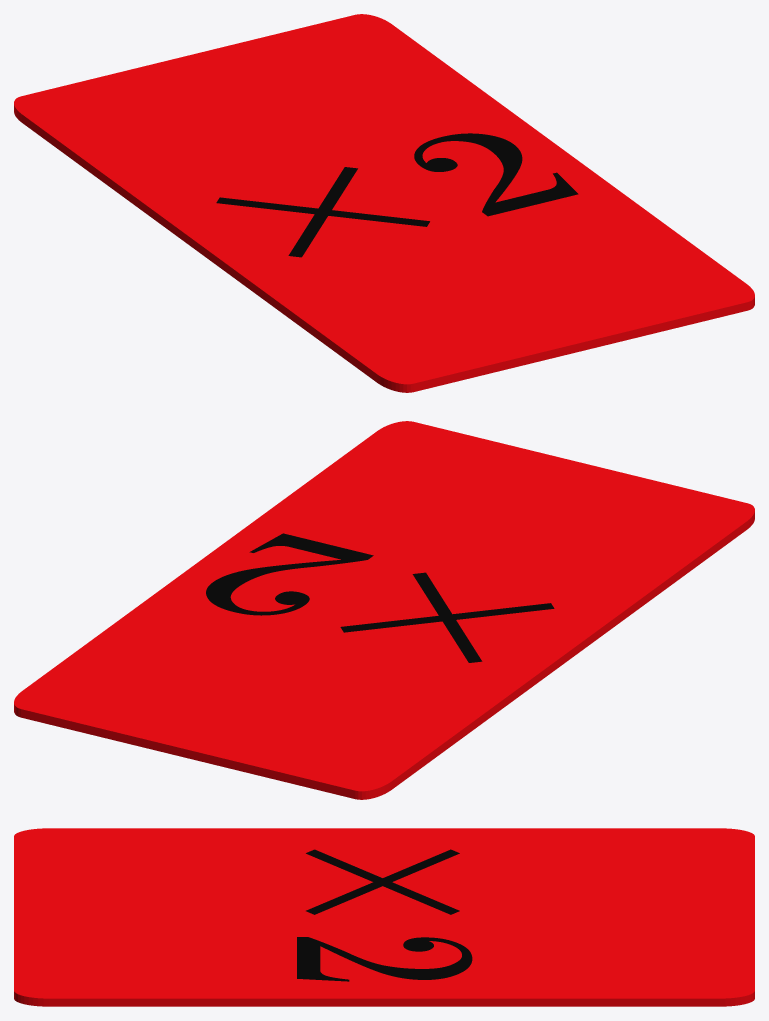
File: Card_Two.fbx
The picture shows the model from 3 angles, top to bottom: view 1: azimuth 30°, elevation 25°; view 2: azimuth 150°, elevation 25°; view 3: azimuth 270°, elevation 25°; orthographic projection. The views are drawn at different scales.
Visible parts, largest first — view 1: Cube, Text.001; view 2: Cube, Text.001; view 3: Cube, Text.001.
Boxes of the visible parts, x1=… form: Cube: x1=14, y1=14, x2=754, y2=392; Text.001: x1=216, y1=133, x2=578, y2=257; Cube: x1=14, y1=421, x2=754, y2=799; Text.001: x1=206, y1=533, x2=554, y2=662; Cube: x1=14, y1=828, x2=754, y2=1006; Text.001: x1=297, y1=849, x2=472, y2=981.
Bounding box in the file's own units: 109 × 4 × 200.
